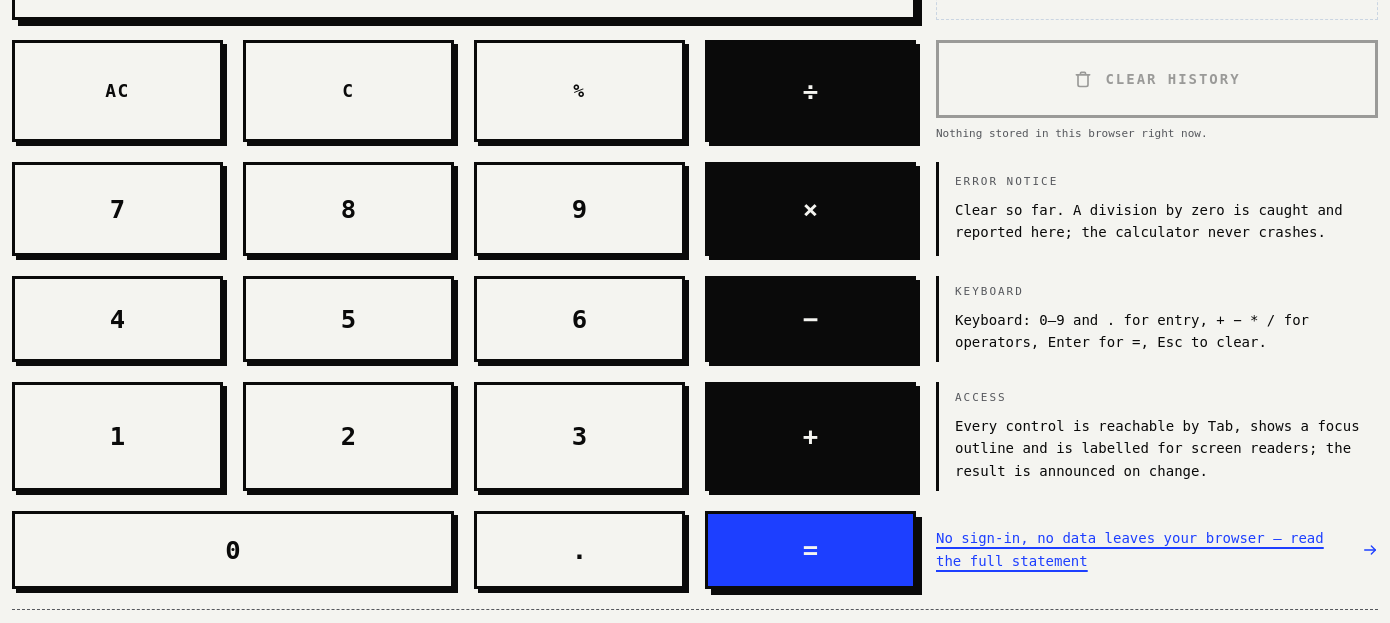
Test: Calculator screen › [AC-013] C clears only the current entry
(page scrolled)
Click the button "5": {"x": 348, "y": 319} [243,276,454,362]
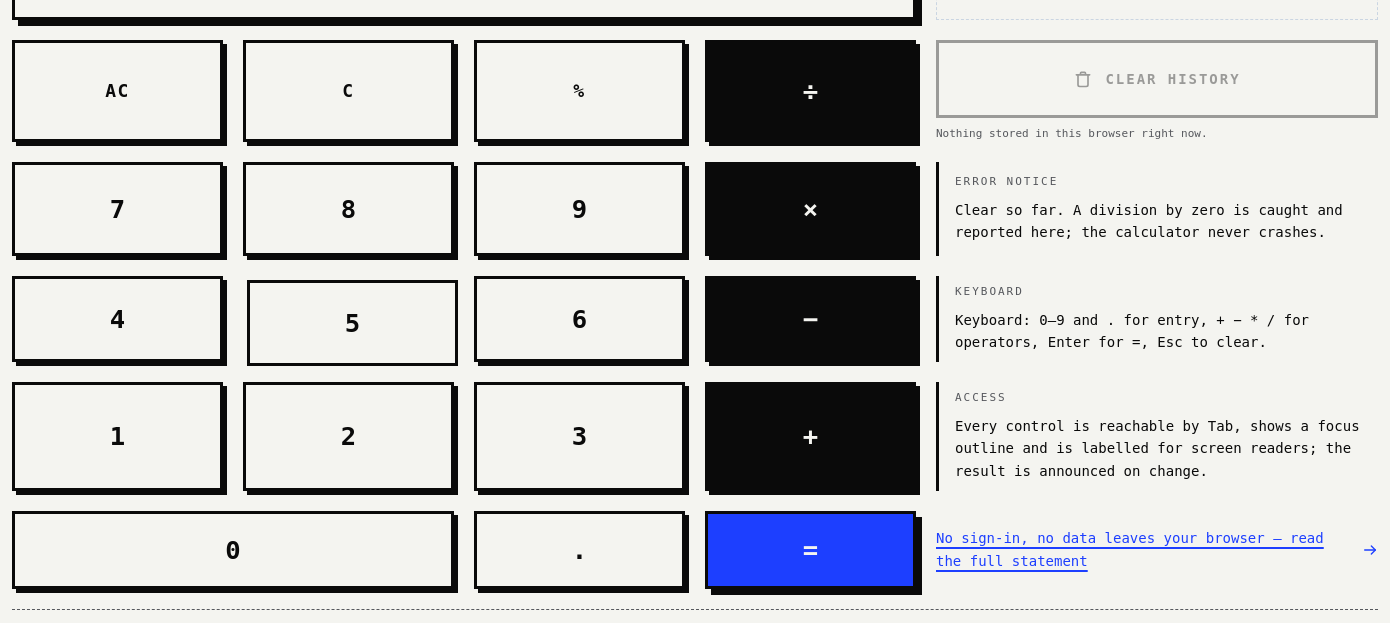
Click the button "+": {"x": 810, "y": 436} [705,382,916,491]
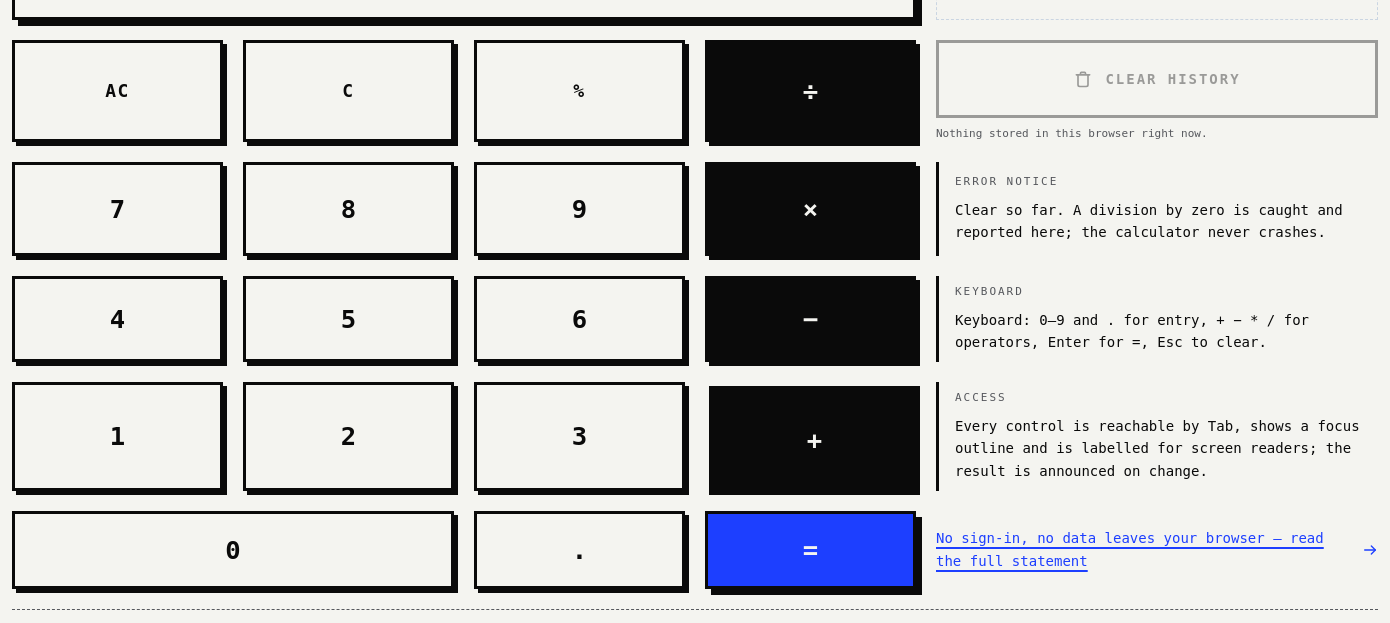
Click the button "3": {"x": 580, "y": 436} [474,382,685,491]
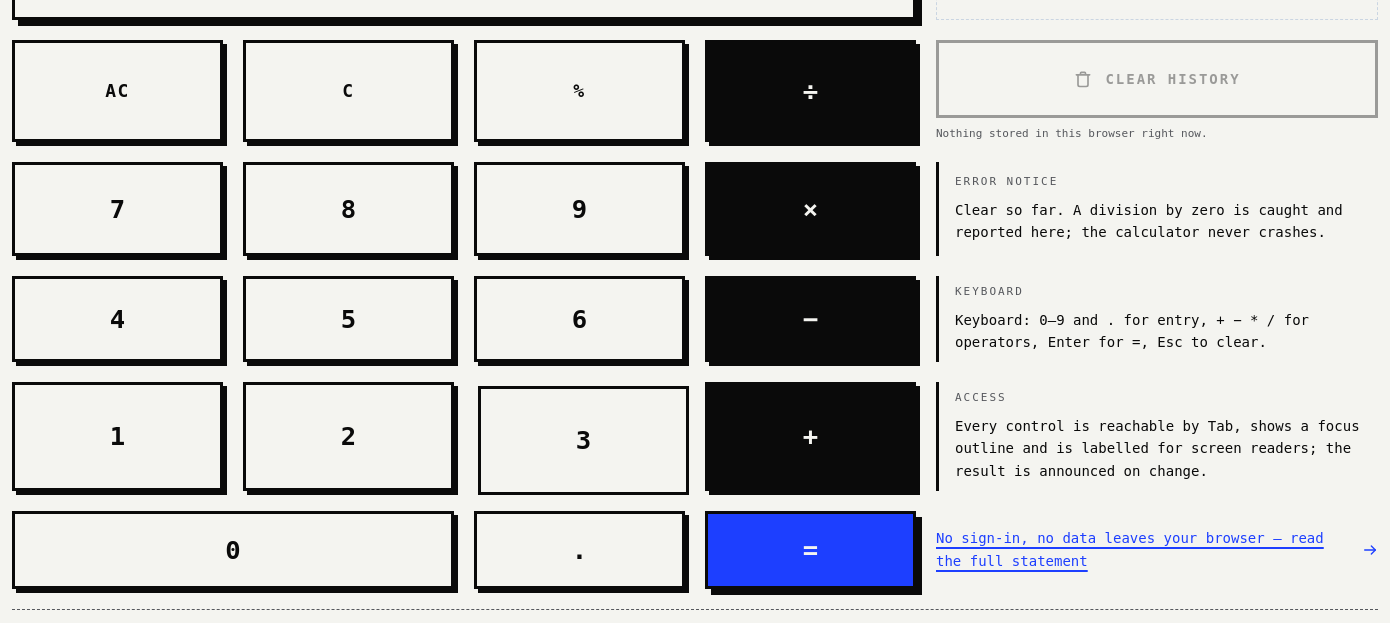
Click the button "C": {"x": 348, "y": 91} [243,40,454,142]
(page scrolled)
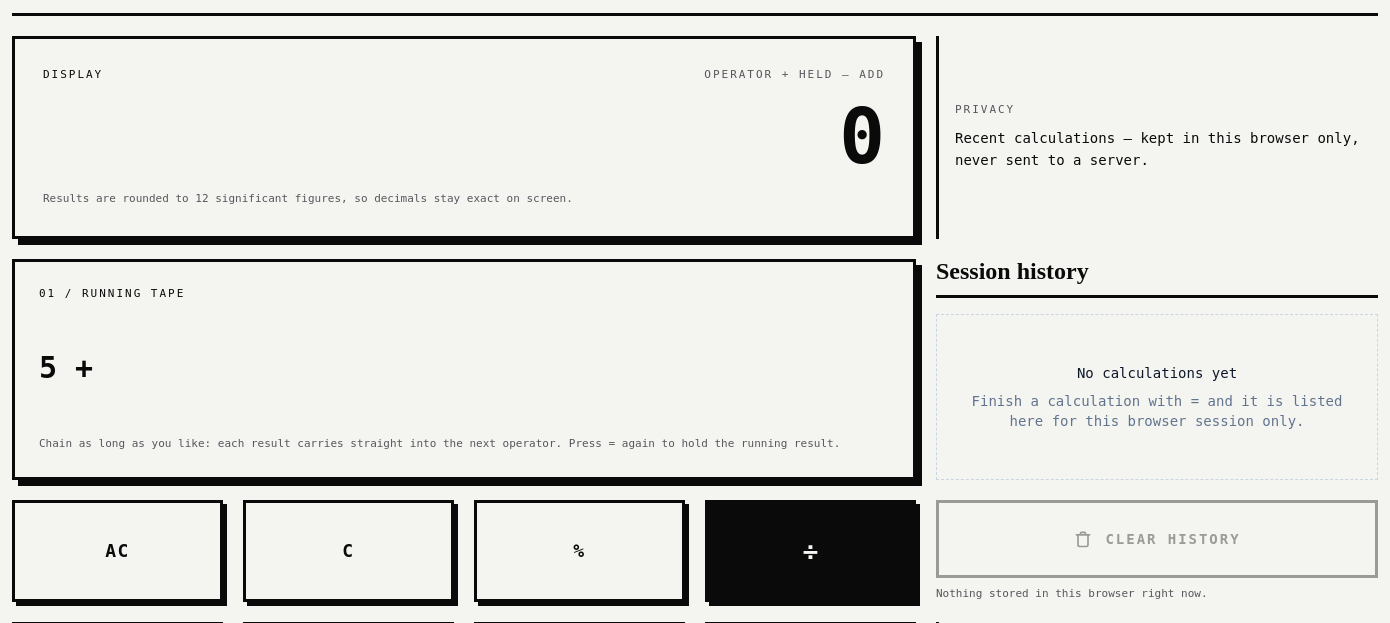
Now the text "0" is shown, box [839,92,885,181]
